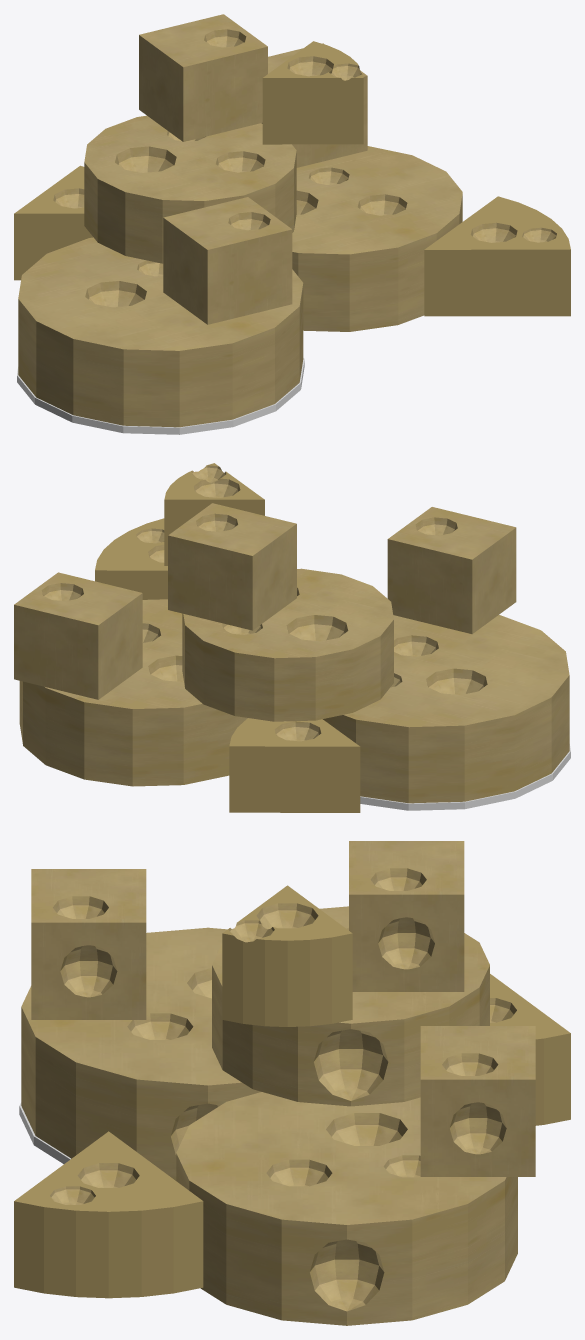
Rendered from CheesePile.fbx.
3 renders of one model, top to bottom at view 1: azimuth 30°, elevation 25°; view 2: azimuth 150°, elevation 25°; view 3: azimuth 270°, elevation 25°, orthographic. The views are drawn at different scales.
Parts seen in each view (by area): view 1: Cheese wheel 0, Cheese wheel 1, Cheese wheel 2, Cheese wedge 1, Cheese block 0, Cheese block 2, Cheese wedge 2, Cheese wedge 0, Orange rind edge, Cheese block 1; view 2: Cheese wheel 0, Cheese wheel 2, Cheese wheel 1, Cheese block 0, Cheese block 2, Cheese block 1, Cheese wedge 0, Cheese wedge 1, Cheese wedge 2, Orange rind edge; view 3: Cheese wheel 1, Cheese wheel 0, Cheese wedge 1, Cheese wheel 2, Cheese block 0, Cheese block 1, Cheese block 2, Cheese wedge 2, Cheese wedge 0.
Part boxes in pixels (box(x1,y1,x2,y2)): Cheese wheel 0: box(18, 237, 303, 427); Cheese wheel 1: box(292, 146, 462, 331); Cheese wheel 2: box(84, 115, 296, 263); Cheese wedge 1: box(424, 196, 570, 316); Cheese block 0: box(163, 197, 292, 324); Cheese block 2: box(139, 14, 267, 141); Cheese wedge 2: box(262, 41, 363, 144); Cheese wedge 0: box(14, 165, 92, 280); Orange rind edge: box(17, 358, 304, 434); Cheese block 1: box(261, 43, 367, 167); Cheese wheel 0: box(323, 615, 569, 803); Cheese wheel 2: box(182, 568, 393, 721); Cheese wheel 1: box(19, 599, 247, 786); Cheese block 0: box(387, 507, 516, 633); Cheese block 2: box(168, 503, 296, 630); Cheese block 1: box(14, 572, 142, 699); Cheese wedge 0: box(229, 718, 360, 812); Cheese wedge 1: box(95, 518, 167, 599); Cheese wedge 2: box(164, 463, 264, 565); Orange rind edge: box(360, 744, 570, 810); Cheese wheel 1: box(176, 1092, 517, 1325); Cheese wheel 0: box(21, 927, 261, 1180); Cheese wedge 1: box(14, 1131, 203, 1298); Cheese wheel 2: box(212, 906, 489, 1106); Cheese block 0: box(31, 869, 146, 1019); Cheese block 1: box(420, 1026, 535, 1176); Cheese block 2: box(349, 841, 464, 991); Cheese wedge 2: box(222, 885, 352, 1026); Cheese wedge 0: box(490, 974, 570, 1125).
Bounding box in the file's own units: 180 × 89.55 × 140.
